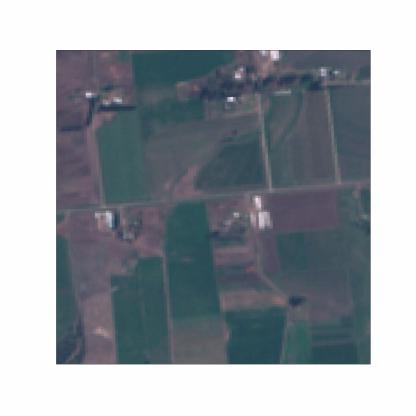silobolsa: (252, 190, 261, 211), (264, 210, 271, 229), (250, 211, 256, 226), (259, 211, 263, 229)
